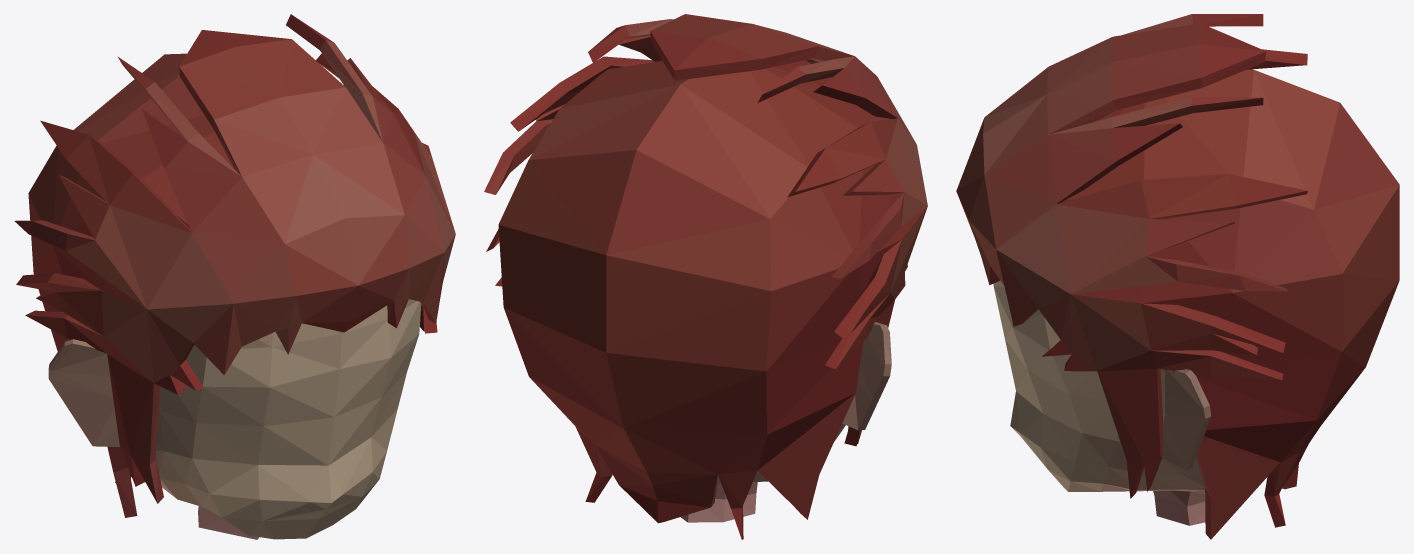
The model's file is helm_lightskin_spike_red.fbx.
The picture shows the model from 3 angles, left to right: view 1: azimuth 30°, elevation 25°; view 2: azimuth 150°, elevation 25°; view 3: azimuth 270°, elevation 25°; orthographic projection.
Parts seen in each view (by area): view 1: helm_lightskin_spike_red; view 2: helm_lightskin_spike_red; view 3: helm_lightskin_spike_red.
Part boxes in pixels (<box>): helm_lightskin_spike_red: <box>14,14,455,539</box>; helm_lightskin_spike_red: <box>484,14,927,539</box>; helm_lightskin_spike_red: <box>956,14,1399,539</box>.
Bounding box in the file's own units: 1.13 × 1.39 × 1.18.
